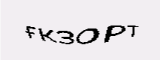Б: (105, 12, 115, 35)
Д: (32, 1, 61, 34), (90, 10, 107, 34)
Ж: (63, 2, 89, 30)
З: (116, 16, 128, 37)
